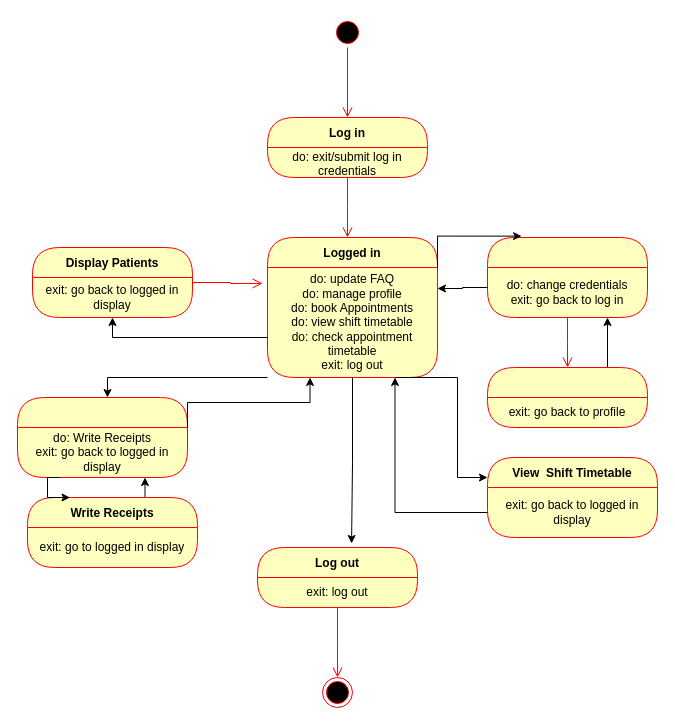
This 675x725 diagram has some shape labels left out. The box of each missing label's shape, as (x1, y1, x2, y2) in pixels:
Change Credentials: (486, 366, 648, 428)
Check Patients: (16, 396, 188, 478)
Profile: (486, 236, 648, 318)
